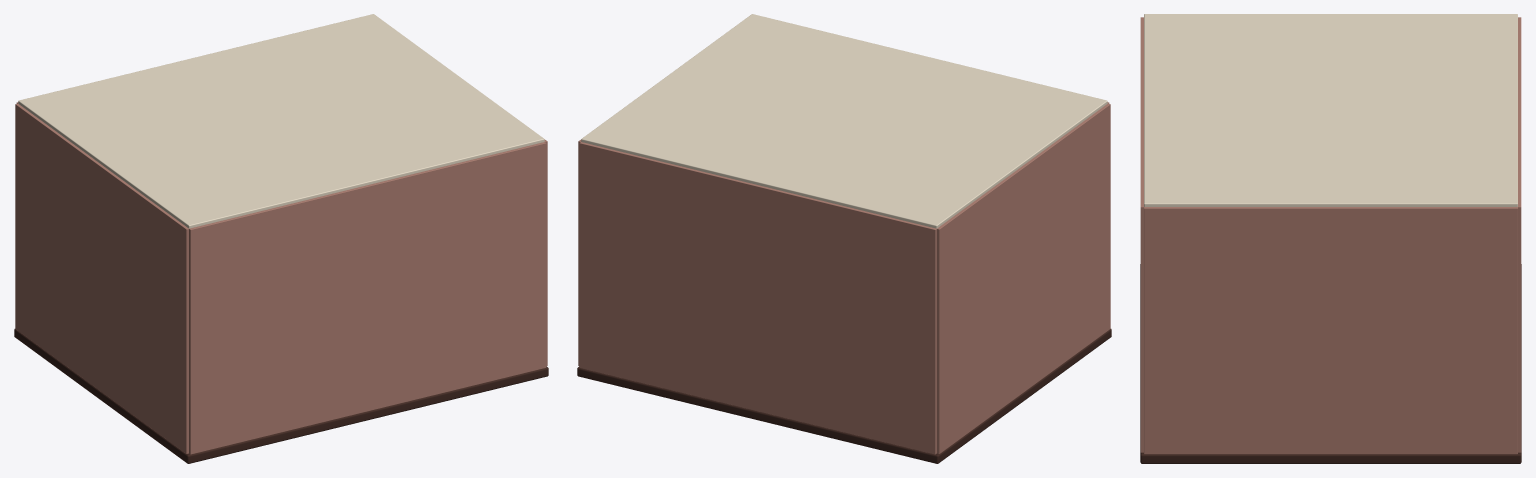
Rendered from bedroom-layout.glb.
3 views of the same model, side by side, from view 1: azimuth 30°, elevation 25°; view 2: azimuth 150°, elevation 25°; view 3: azimuth 270°, elevation 25° (orthographic). The views are drawn at different scales.
Parts seen in each view (by area): view 1: Shell_back · Rose plaster, Shell_ceiling · Ivory painted timber, Shell_left · Rose plaster, Carpet and furniture · Polished dark wood; view 2: Shell_front · Rose plaster, Shell_ceiling · Ivory painted timber, Shell_left · Rose plaster, Carpet and furniture · Polished dark wood; view 3: Shell_right · Rose plaster, Shell_ceiling · Ivory painted timber, Carpet and furniture · Polished dark wood, Shell_back · Rose plaster, Shell_front · Rose plaster.
Boxes of the visible parts, x1,y1,x2,y2 form: Shell_back · Rose plaster: (189,142,546,454); Shell_ceiling · Ivory painted timber: (18,14,544,228); Shell_left · Rose plaster: (15,103,188,453); Carpet and furniture · Polished dark wood: (14,329,548,463); Shell_front · Rose plaster: (579,142,936,454); Shell_ceiling · Ivory painted timber: (581,14,1107,228); Shell_left · Rose plaster: (937,103,1110,453); Carpet and furniture · Polished dark wood: (577,329,1111,463); Shell_right · Rose plaster: (1144,207,1517,454); Shell_ceiling · Ivory painted timber: (1144,14,1517,206); Carpet and furniture · Polished dark wood: (1140,264,1521,463); Shell_back · Rose plaster: (1140,17,1143,452); Shell_front · Rose plaster: (1518,17,1521,452).
Bounding box in the file's own units: 5.82 × 3.65 × 4.86.
